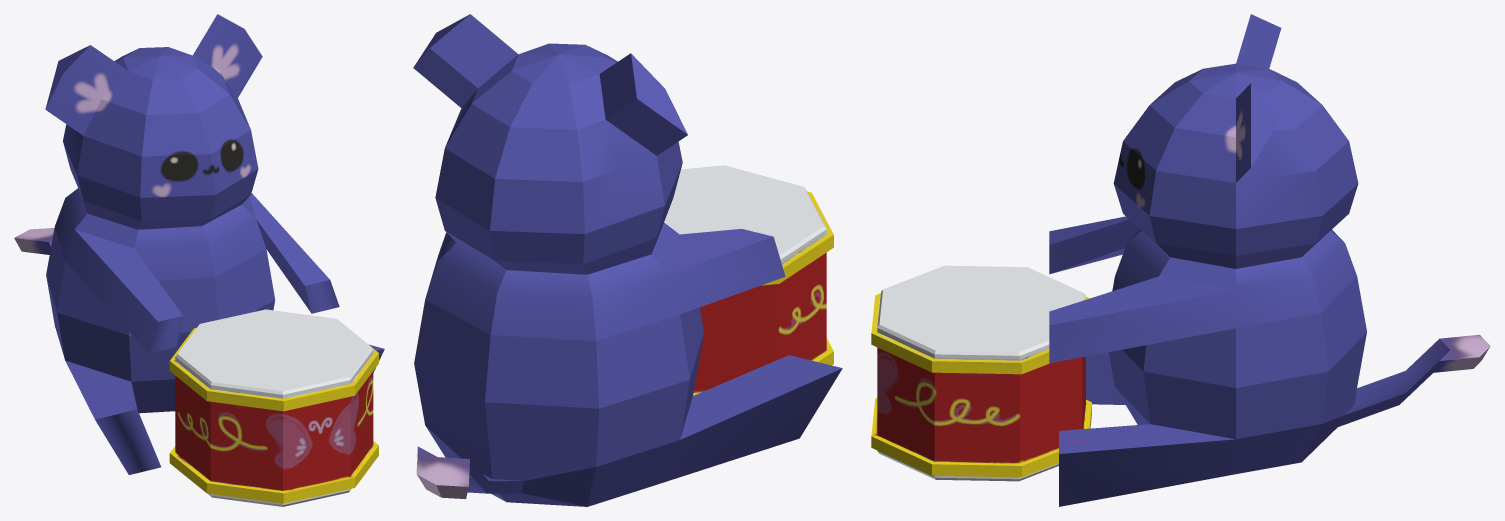
Rendered from drumjump_color.fbx.
3 renders of one model, left to right at view 1: azimuth 30°, elevation 25°; view 2: azimuth 150°, elevation 25°; view 3: azimuth 270°, elevation 25°, orthographic. The views are drawn at different scales.
Visible parts, largest first — view 1: chinchilla, drum; view 2: chinchilla, drum; view 3: chinchilla, drum.
Boxes of the visible parts, <box> form: chinchilla: <box>14,14,384,474</box>; drum: <box>169,309,378,506</box>; chinchilla: <box>413,14,842,506</box>; drum: <box>664,165,833,395</box>; chinchilla: <box>1049,14,1490,506</box>; drum: <box>871,265,1091,481</box>.
Size of the model in its own units: 3.37 by 3.95 by 5.57.
